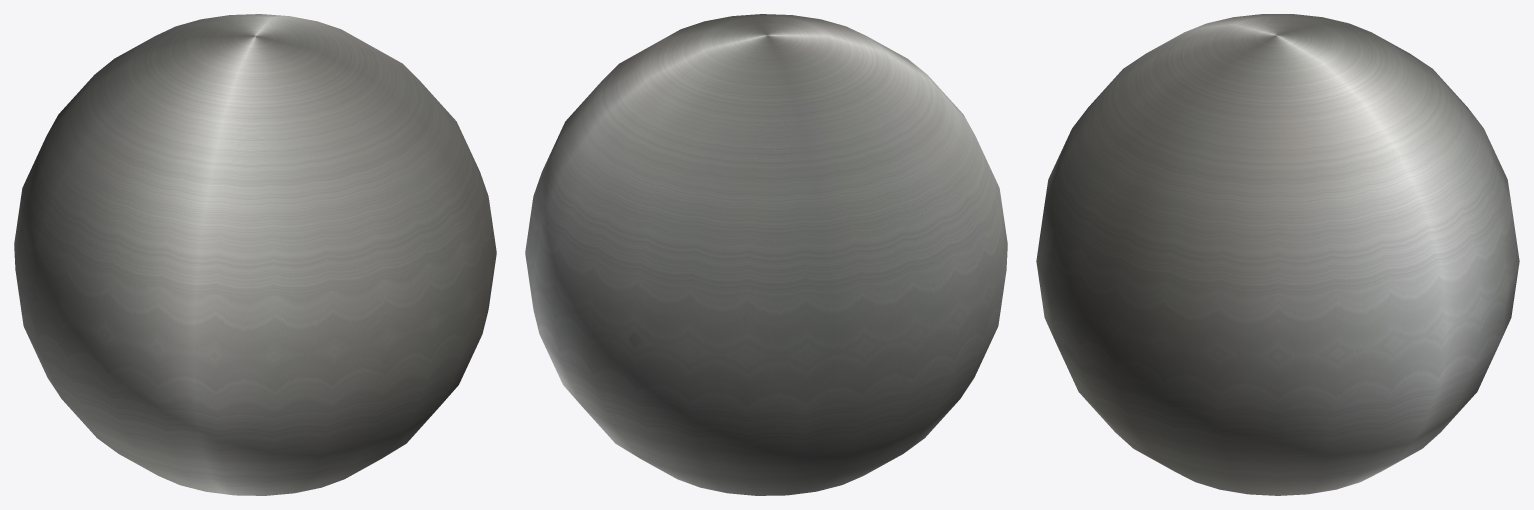
Rendered from ballSml.obj.
3 renders of one model, left to right at view 1: azimuth 30°, elevation 25°; view 2: azimuth 150°, elevation 25°; view 3: azimuth 270°, elevation 25°, orthographic.
Parts seen in each view (by area): view 1: ballSml.obj; view 2: ballSml.obj; view 3: ballSml.obj.
Boxes of the visible parts, left/top/right/bottom form: ballSml.obj: left=14, top=14, right=496, bottom=495; ballSml.obj: left=525, top=14, right=1007, bottom=495; ballSml.obj: left=1036, top=14, right=1519, bottom=495.
Size of the model in its own units: 0.3785 by 0.38 by 0.3792.
1 material, 1 textured.
